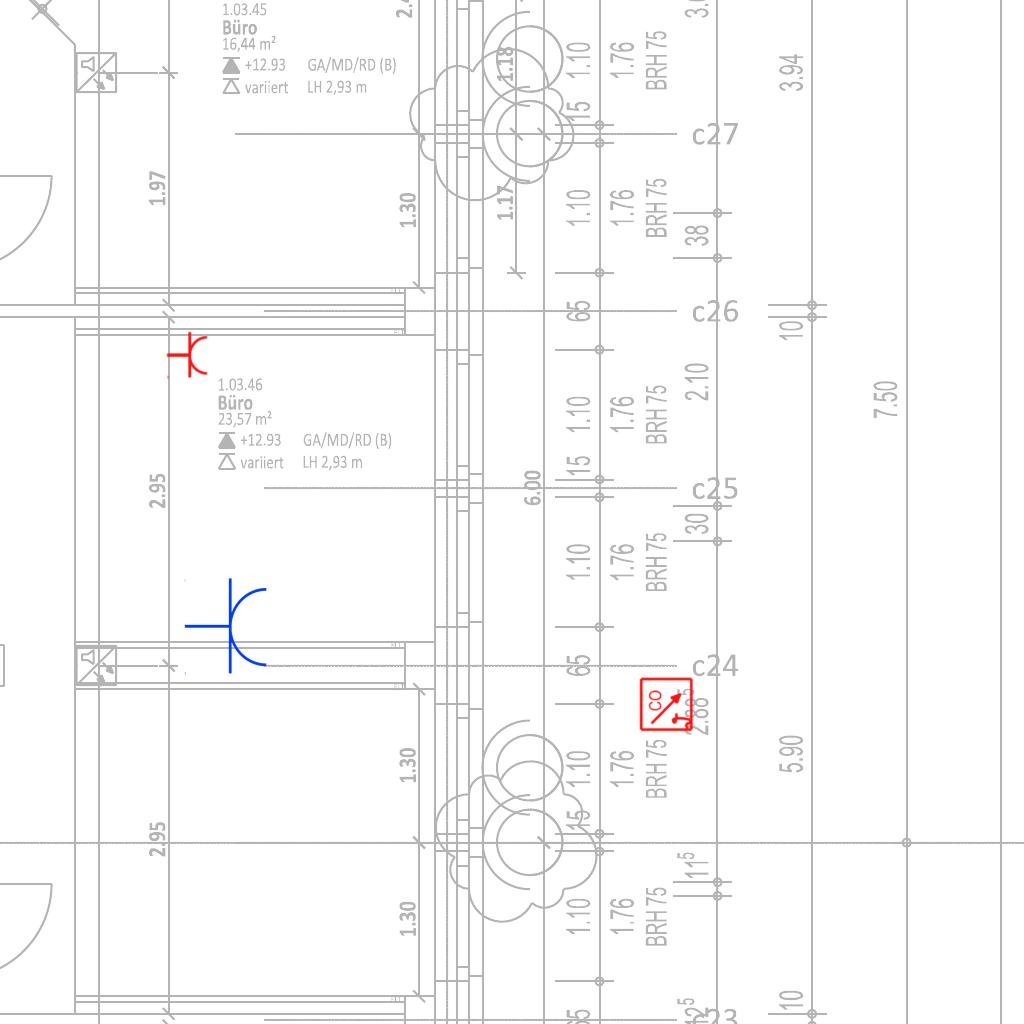ROA_Rauchmelder_optisch_mit_Signalgeber_(Sockelsirene): (639, 676, 695, 732)
Schukosteckdose_einfach: (184, 577, 271, 677), (166, 331, 209, 381)
